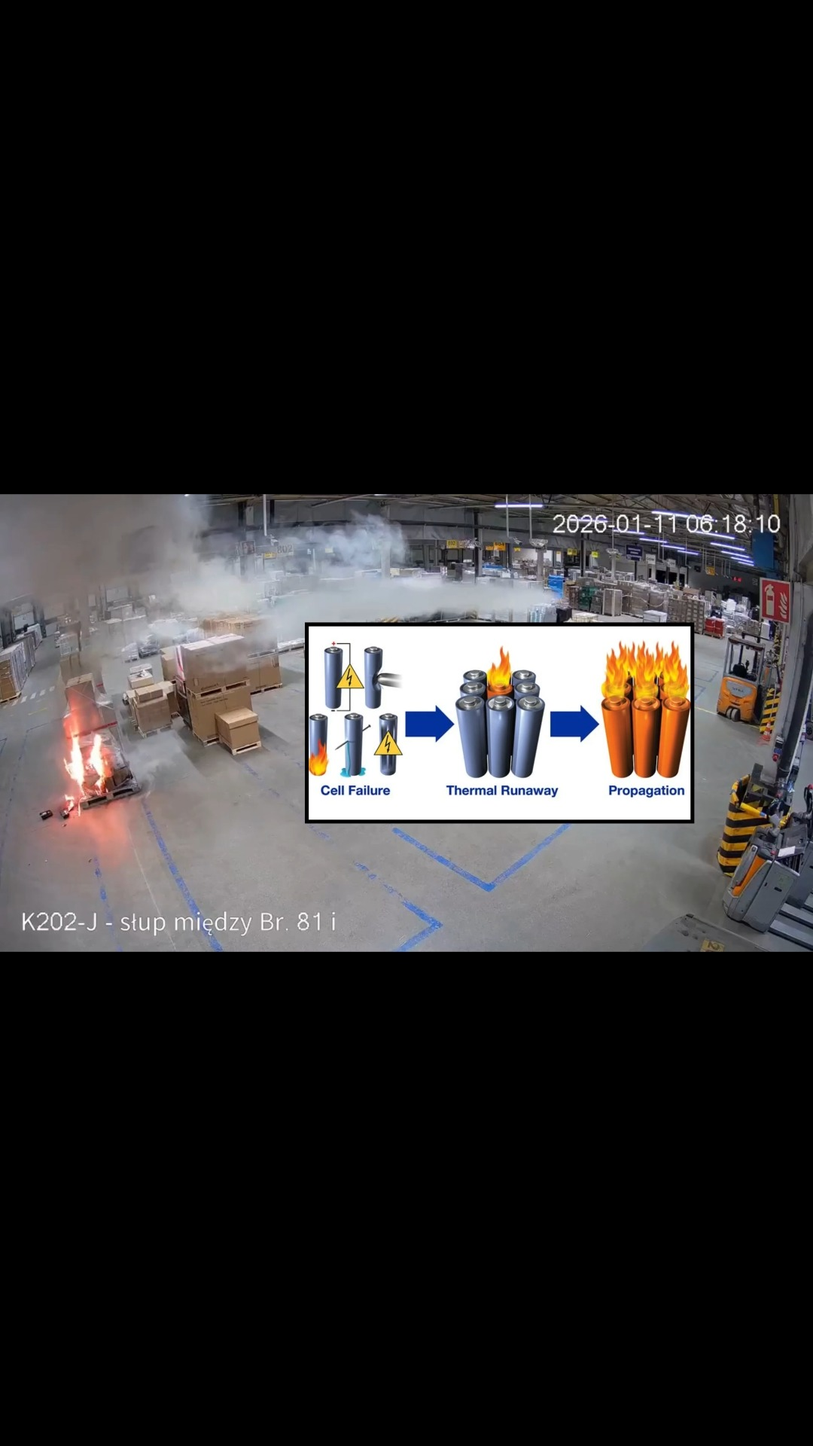fire: (62, 706, 114, 818)
smoke: (1, 496, 548, 709)
